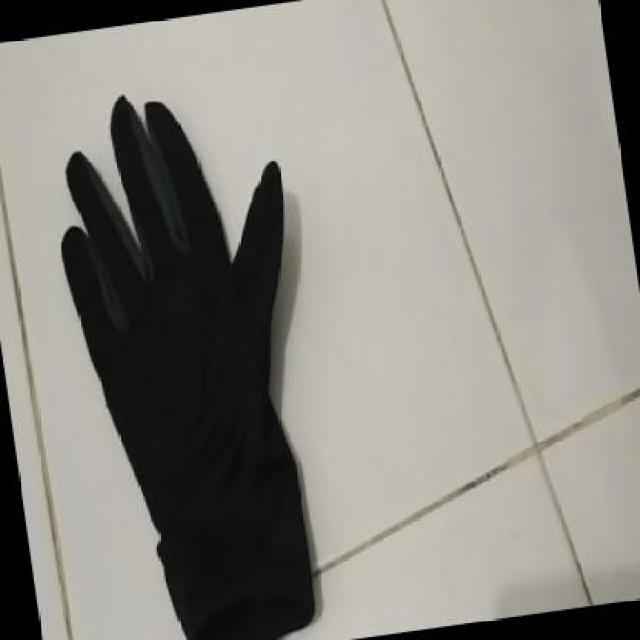gloves: (35, 72, 340, 638)
